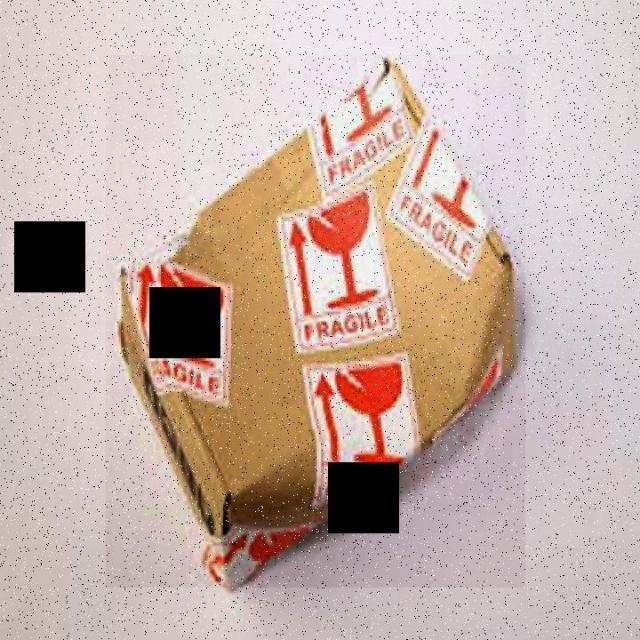box: (106, 55, 526, 588)
